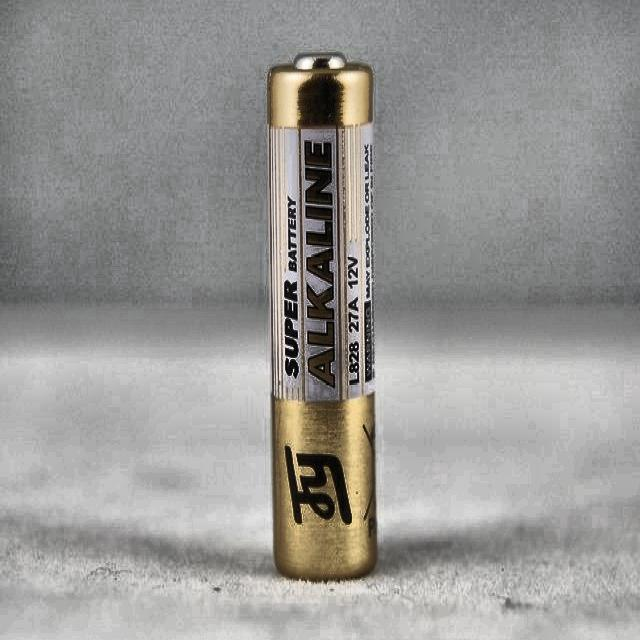battery: (268, 53, 378, 579)
